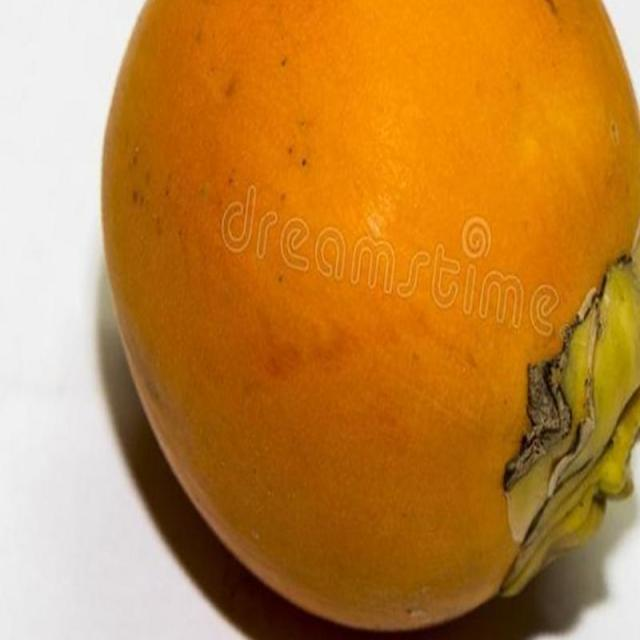good: (99, 0, 639, 637)
